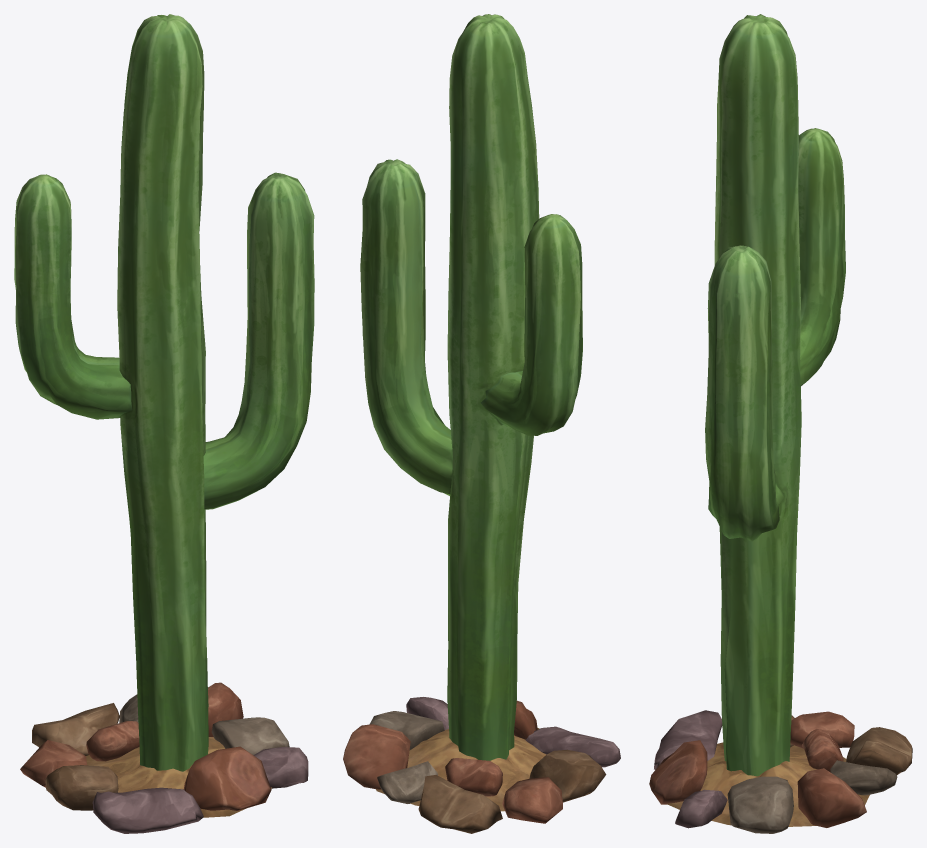
Rendered from Cactus 1.glb.
The picture shows the model from 3 angles, left to right: view 1: azimuth 30°, elevation 25°; view 2: azimuth 150°, elevation 25°; view 3: azimuth 270°, elevation 25°; orthographic projection.
Visible parts, largest first — view 1: cactus_1.1; view 2: cactus_1.1; view 3: cactus_1.1.
Boxes of the visible parts, bbox=[...] form: cactus_1.1: bbox=[14, 14, 314, 833]; cactus_1.1: bbox=[343, 14, 620, 833]; cactus_1.1: bbox=[649, 14, 912, 833].
Size of the model in its own units: 0.0412 by 0.1177 by 0.0368.
Materials: 1 (1 with a texture image).
